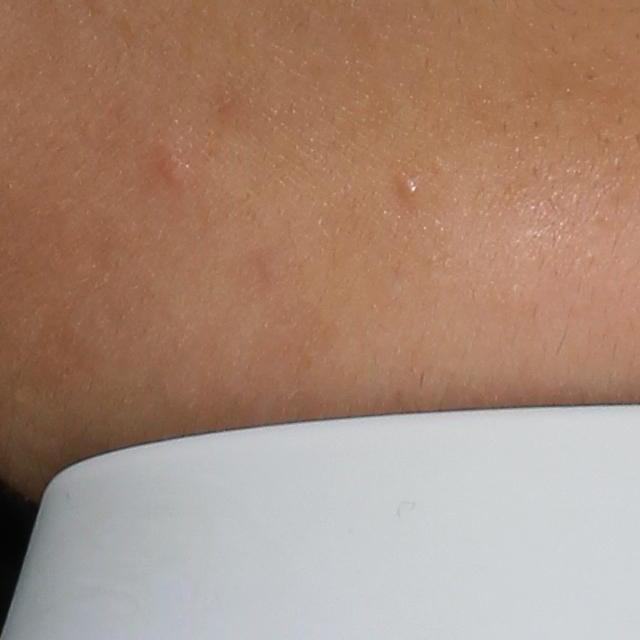comedo: (399, 168, 428, 206)
papule: (156, 151, 190, 190)
